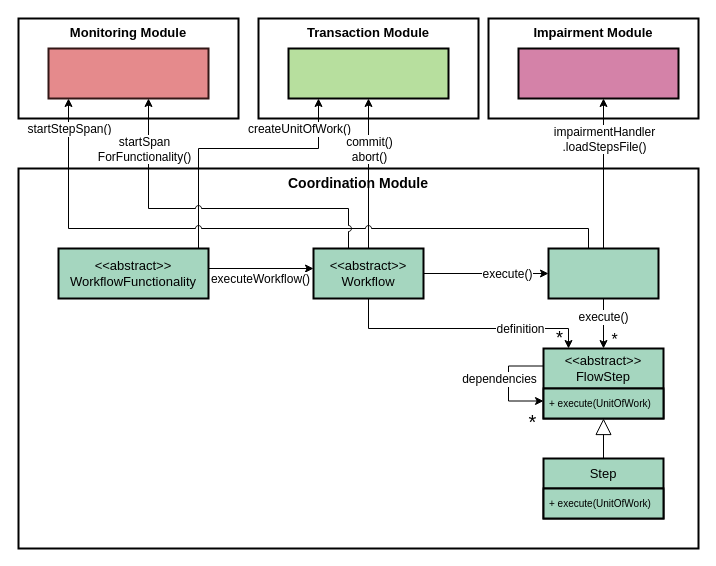
Image size: 716x566. Some labels were removed from this diagram. Each missing label, with the centre of its shape:
"ExecutionPlan" belongs at point 603,273.
"ImpairmentHandler" belongs at point 598,73.
"TraceManager" belongs at point 128,73.
"UnitOfWorkService" belongs at point 368,73.
